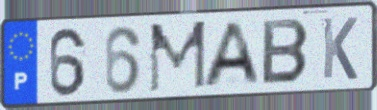6: (47, 25, 89, 99), (103, 23, 143, 96)
A: (198, 20, 264, 90)
B: (260, 17, 312, 86)
K: (320, 15, 360, 83)
M: (146, 18, 208, 96)
